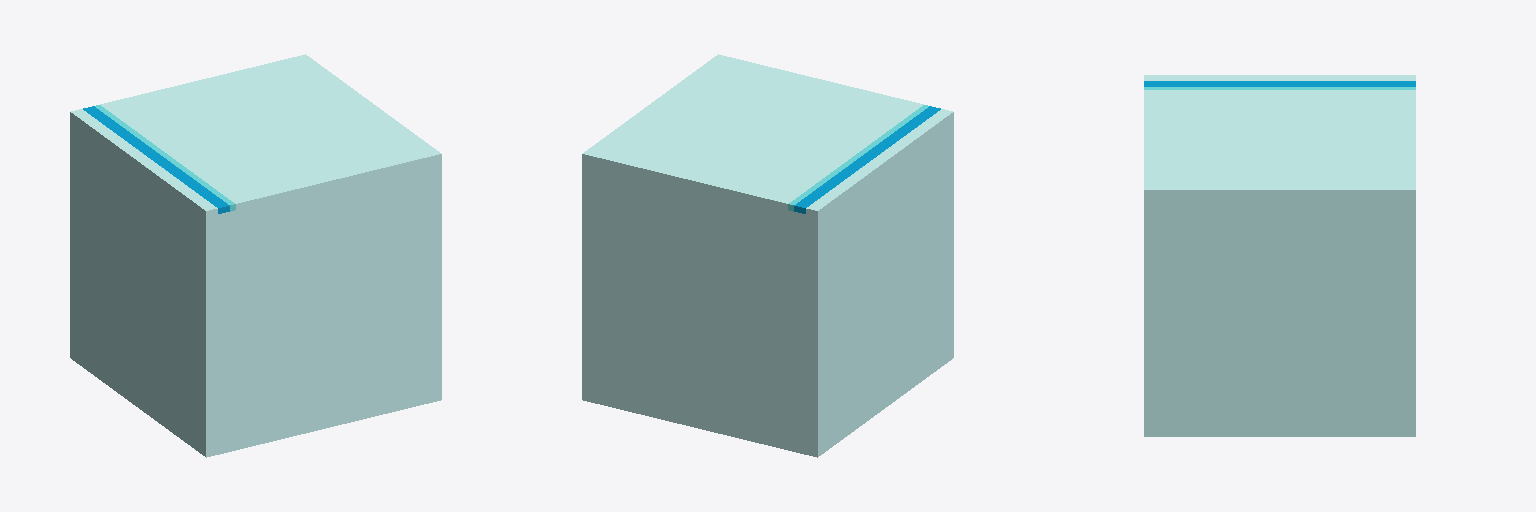
3 views of the same model, side by side, from view 1: azimuth 30°, elevation 25°; view 2: azimuth 150°, elevation 25°; view 3: azimuth 270°, elevation 25° (orthographic).
Parts seen in each view (by area): view 1: object 1; view 2: object 1; view 3: object 1.
Part boxes in pixels (bbox=[...]): object 1: bbox=[70, 54, 441, 457]; object 1: bbox=[582, 54, 953, 457]; object 1: bbox=[1144, 75, 1415, 436].
Bounding box in the file's own units: 4 × 4 × 4.
Materials: 1 (1 with a texture image).